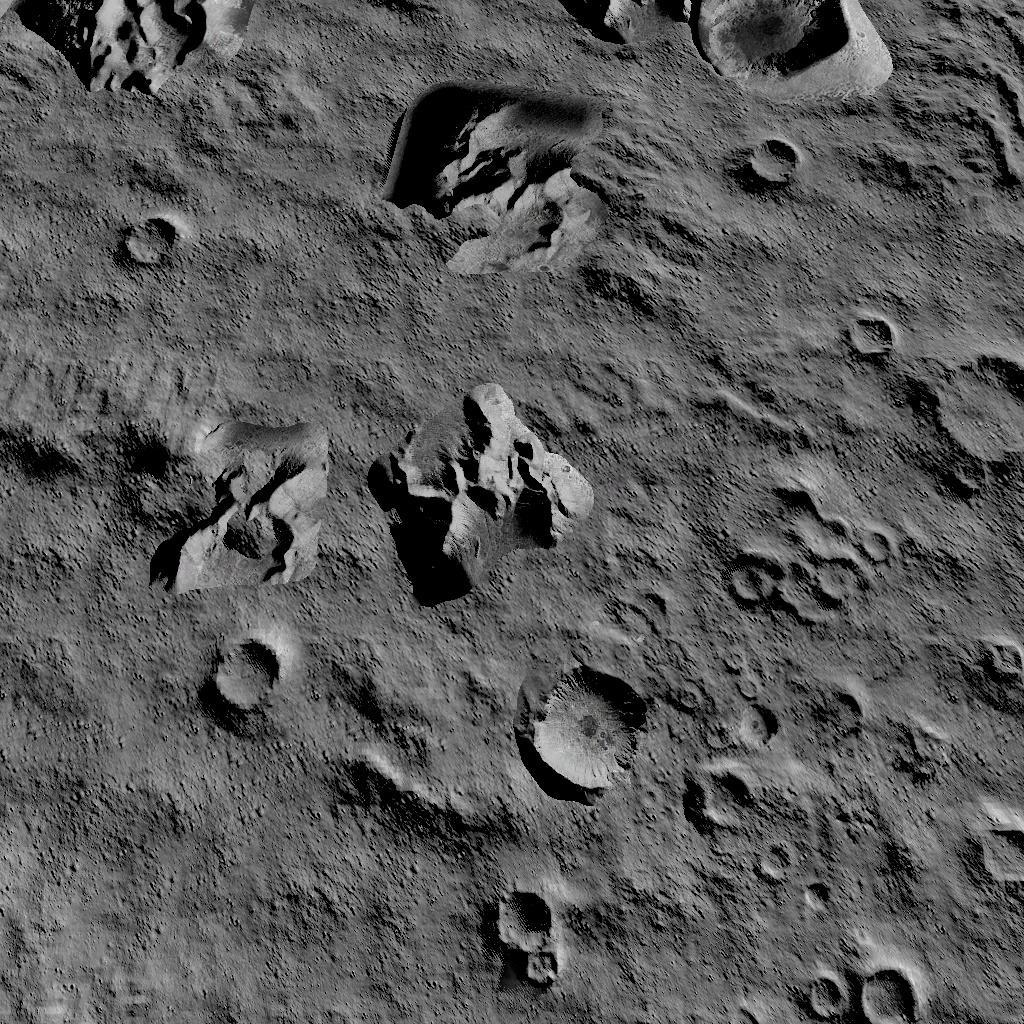Boulders: (378, 82, 698, 322), (0, 360, 328, 588), (366, 370, 596, 600), (0, 0, 246, 98)
Crater: (716, 478, 895, 618), (531, 660, 648, 793), (928, 345, 1024, 490), (794, 945, 916, 1024), (484, 882, 566, 988), (203, 632, 288, 718), (114, 210, 176, 273), (748, 120, 802, 188), (973, 808, 1024, 878), (841, 308, 898, 360)
Plan surface: (0, 600, 188, 1024), (204, 832, 470, 1024), (193, 130, 368, 348), (711, 200, 1024, 298)
